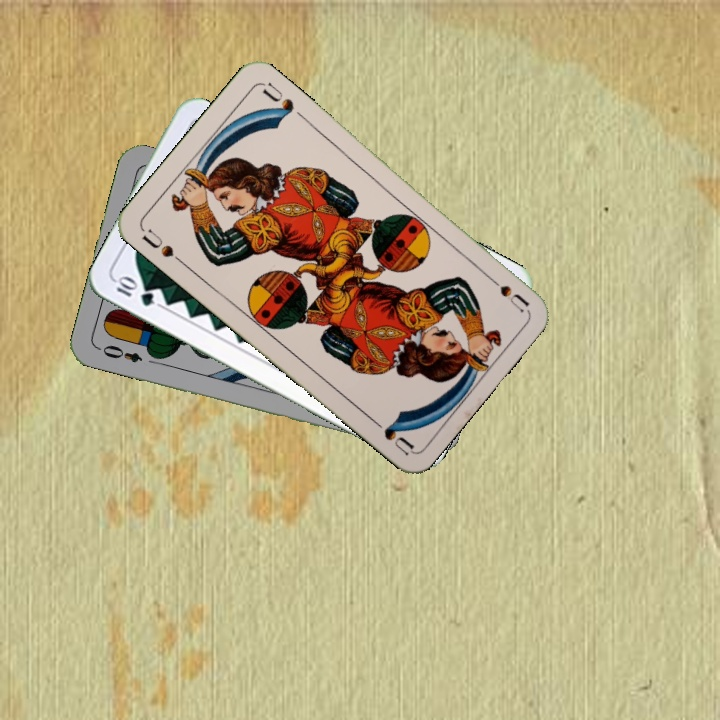EO: (93, 341, 145, 366)
G10: (110, 273, 158, 309)
SU: (480, 268, 531, 315), (138, 224, 188, 268)
